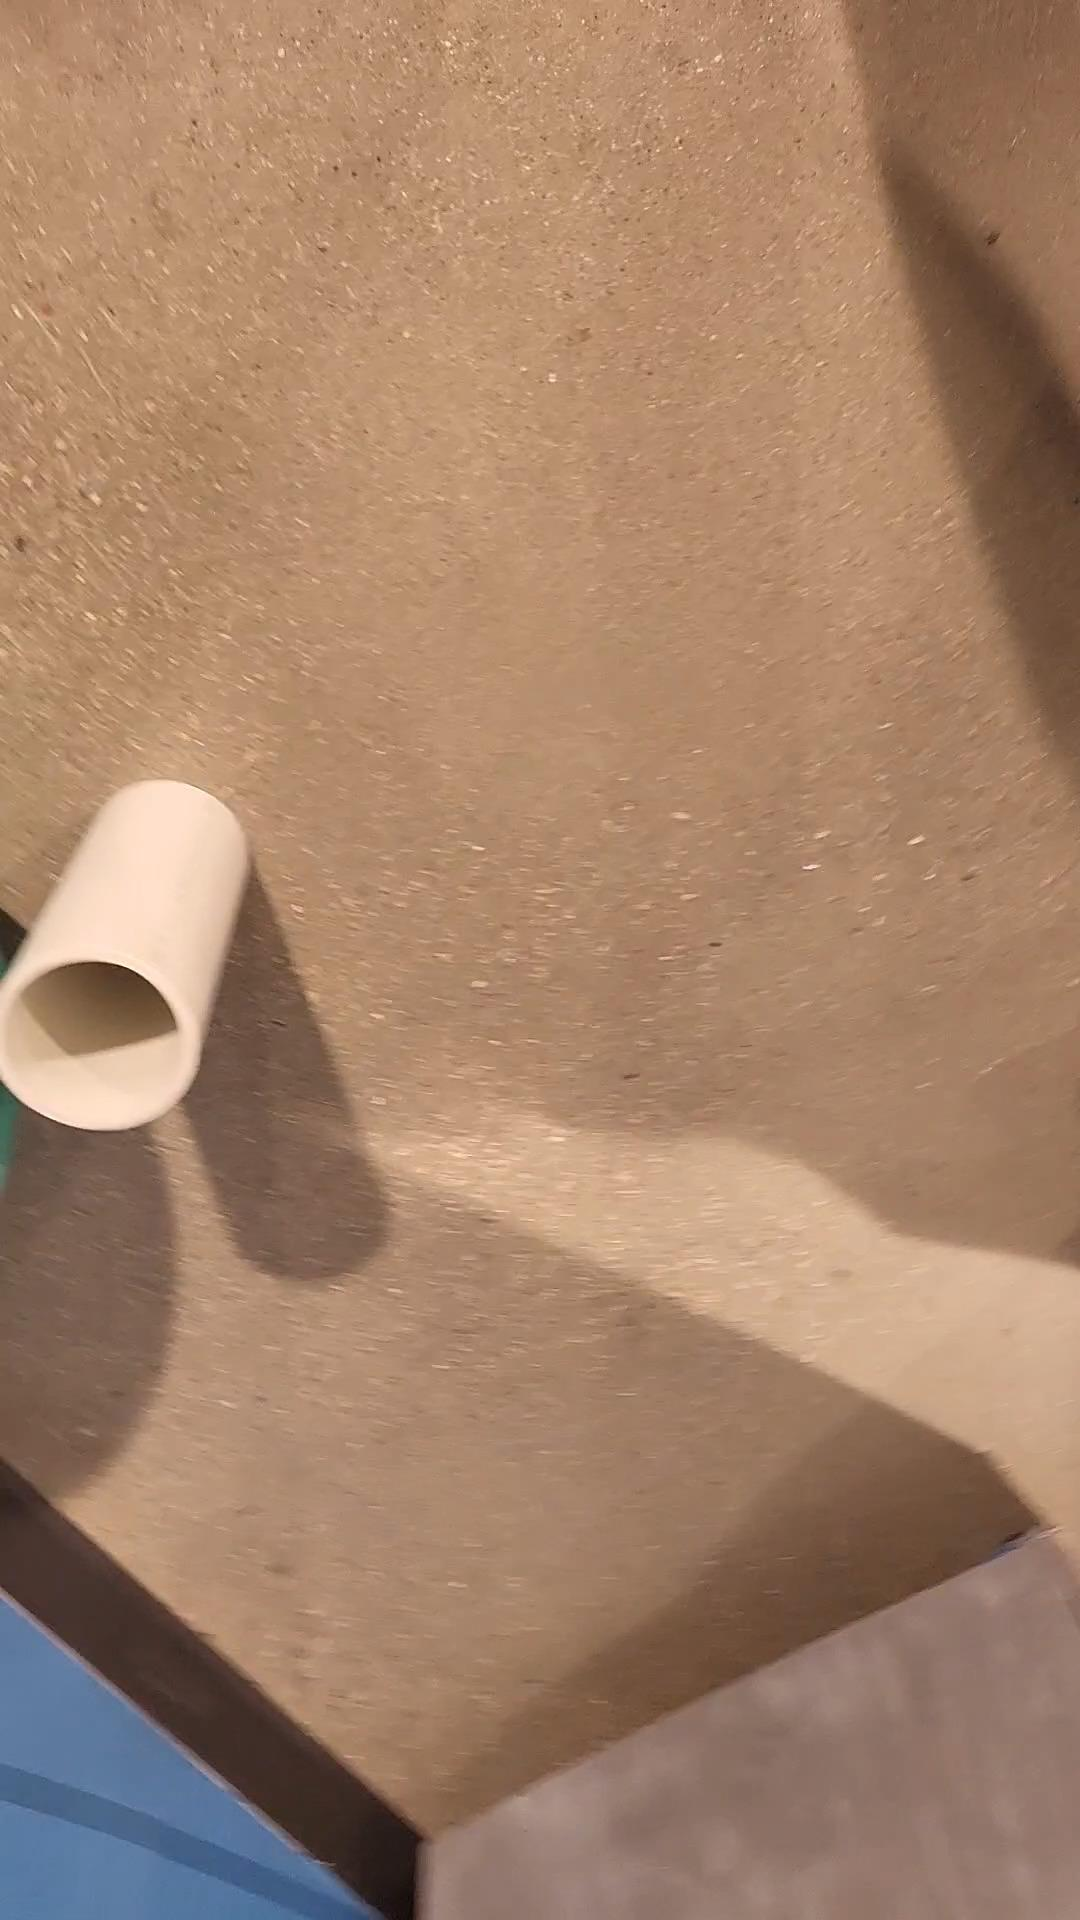coral: (0, 775, 245, 1135)
